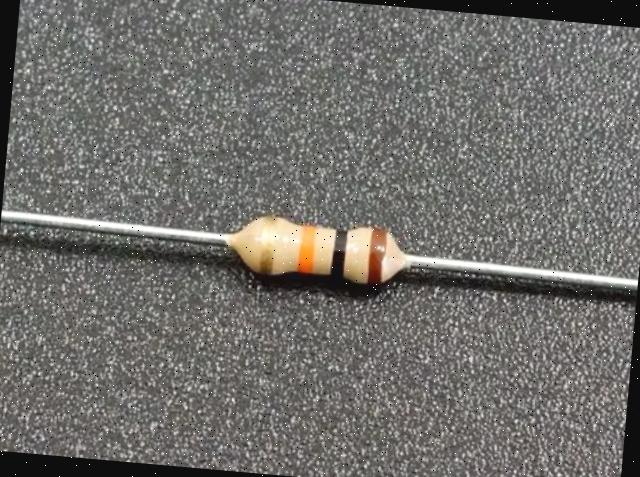black: (326, 229, 349, 277)
brown: (367, 226, 387, 284)
gold: (259, 216, 277, 274)
orange: (296, 225, 315, 273)
resistor: (222, 199, 410, 299)
